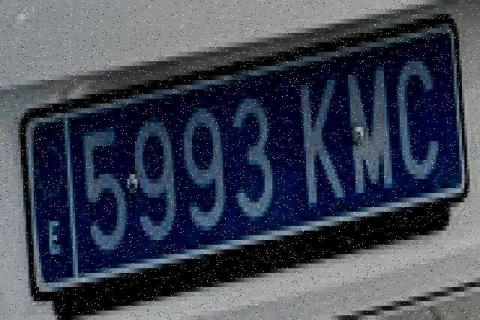LicensePlate: (21, 23, 470, 297)
